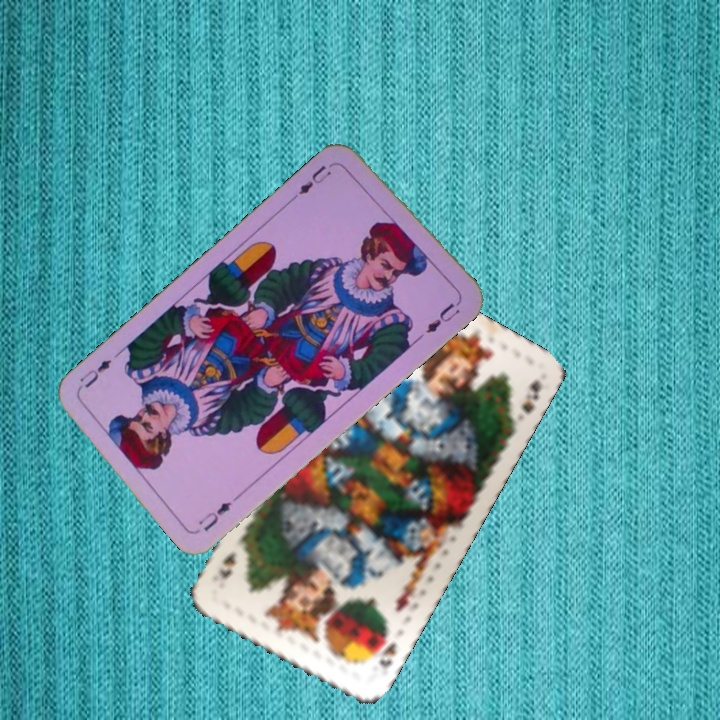EU: (290, 160, 334, 202), (194, 497, 235, 534)
SK: (368, 624, 400, 671)
